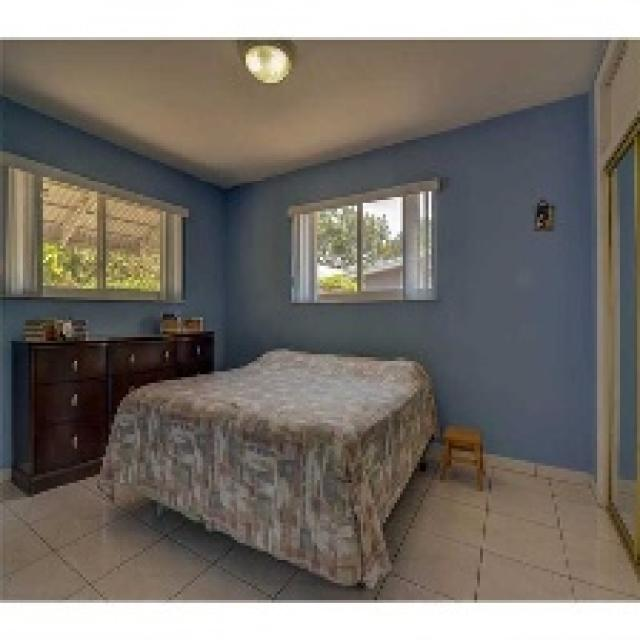Bed: (97, 346, 437, 588)
